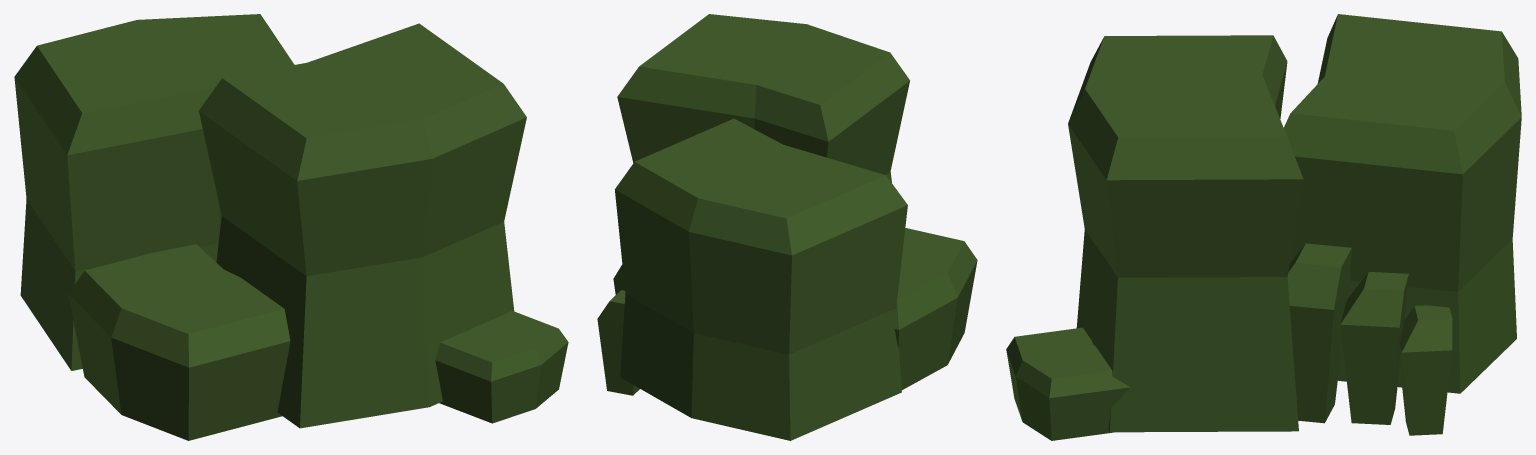
File: lp_Rock_Type6_01_mesh_001_Plane_027.obj
The picture shows the model from 3 angles, left to right: view 1: azimuth 30°, elevation 25°; view 2: azimuth 150°, elevation 25°; view 3: azimuth 270°, elevation 25°; orthographic projection. The views are drawn at different scales.
Visible parts, largest first — view 1: lp_Rock_Type6_01_mesh_001_Plane_027; view 2: lp_Rock_Type6_01_mesh_001_Plane_027; view 3: lp_Rock_Type6_01_mesh_001_Plane_027.
Part boxes in pixels (x1,y1,x2,y2): lp_Rock_Type6_01_mesh_001_Plane_027: [14, 14, 568, 440]; lp_Rock_Type6_01_mesh_001_Plane_027: [597, 14, 977, 440]; lp_Rock_Type6_01_mesh_001_Plane_027: [1006, 14, 1521, 440].
Size of the model in its own units: 3.87 by 3.1 by 4.57.
